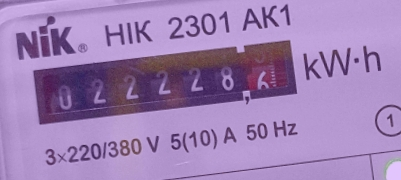0: (53, 81, 73, 111)
2: (86, 75, 108, 106), (151, 67, 172, 96), (185, 64, 205, 94), (120, 71, 139, 101)
5: (249, 44, 267, 66)
6: (252, 67, 270, 90)
8: (216, 63, 235, 92)
screen: (22, 26, 307, 134)
